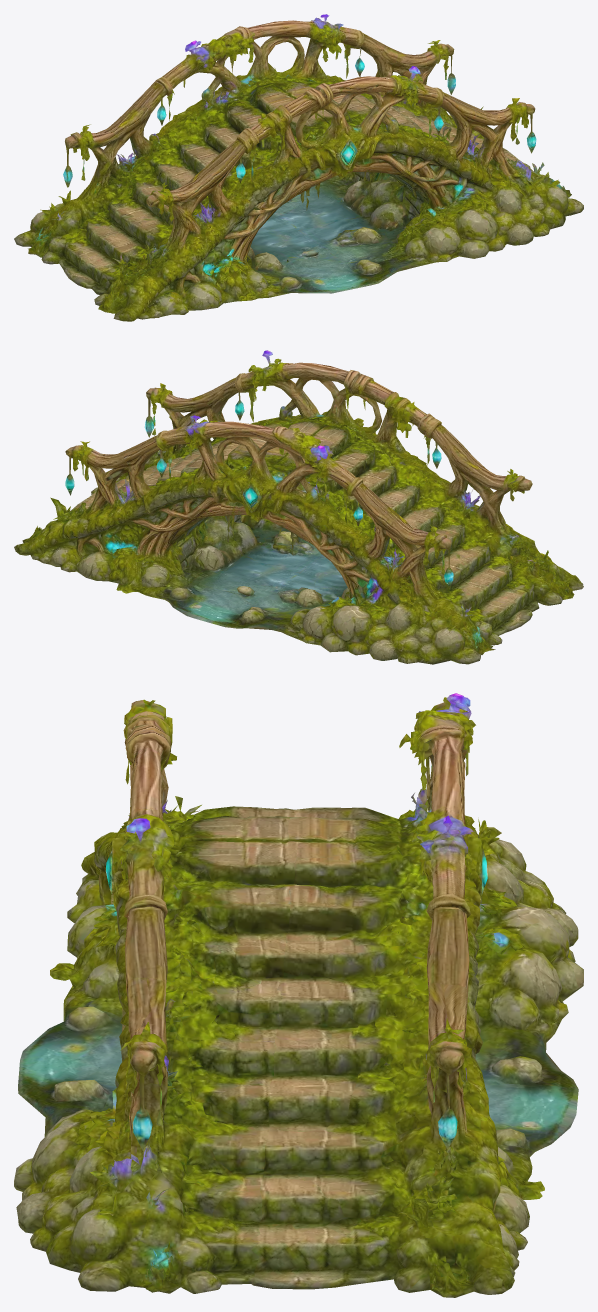
File: stone-garden-bridge.glb
3 views of the same model, one above another, from view 1: azimuth 30°, elevation 25°; view 2: azimuth 150°, elevation 25°; view 3: azimuth 270°, elevation 25° (orthographic). The views are drawn at different scales.
Bounding box in the file's own units: 1.9 × 0.6872 × 1.03.
1 material, 1 textured.
